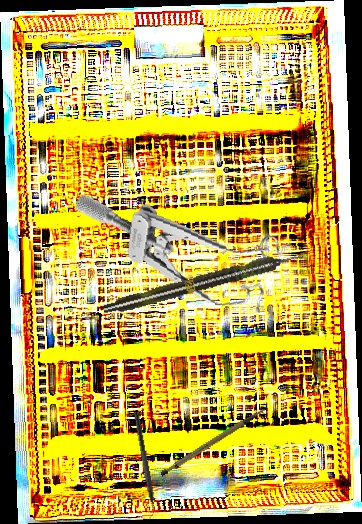Chopper: (126, 411, 160, 522)
Handpiece: (101, 247, 305, 319)
Scalpel Handle: (153, 407, 275, 478)
Speculum: (64, 194, 294, 316)
